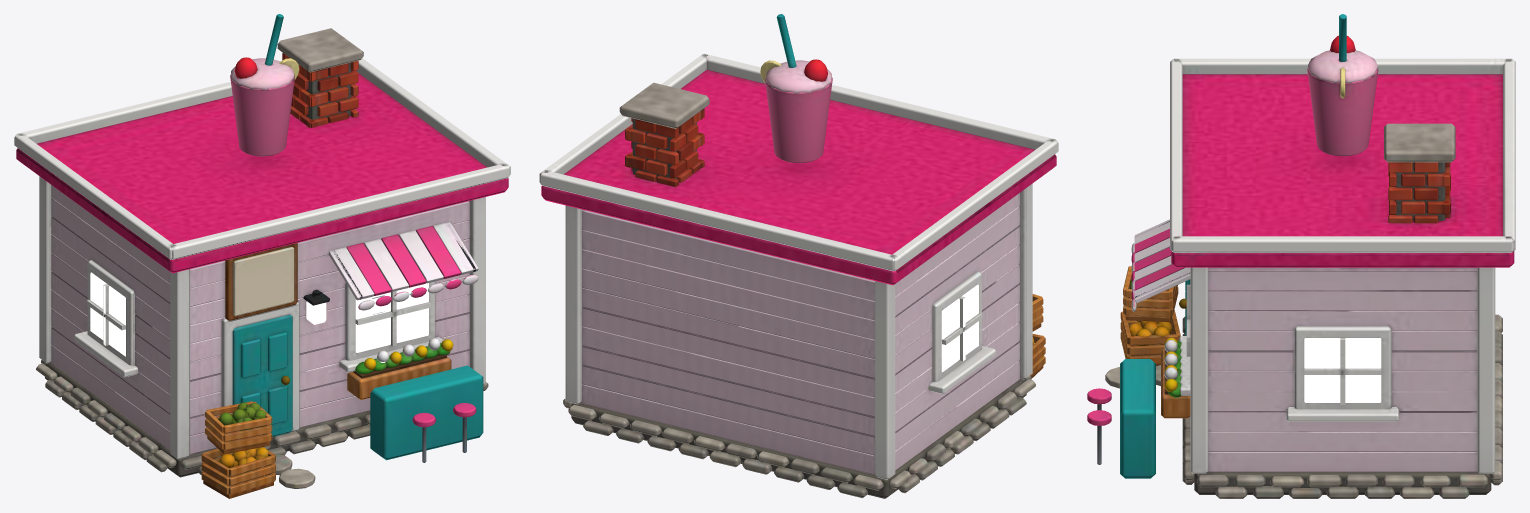
Rendered from smoothie_bar.glb.
The picture shows the model from 3 angles, left to right: view 1: azimuth 30°, elevation 25°; view 2: azimuth 150°, elevation 25°; view 3: azimuth 270°, elevation 25°; orthographic projection. The views are drawn at different scales.
Parts seen in each view (by area): view 1: smoothie_bar; view 2: smoothie_bar; view 3: smoothie_bar.
Boxes of the visible parts, x1=… form: smoothie_bar: x1=14, y1=14, x2=510, y2=498; smoothie_bar: x1=539, y1=14, x2=1058, y2=498; smoothie_bar: x1=1087, y1=14, x2=1515, y2=498.
Bounding box in the file's own units: 1.69 × 1.77 × 1.67.
1 material, 1 textured.
